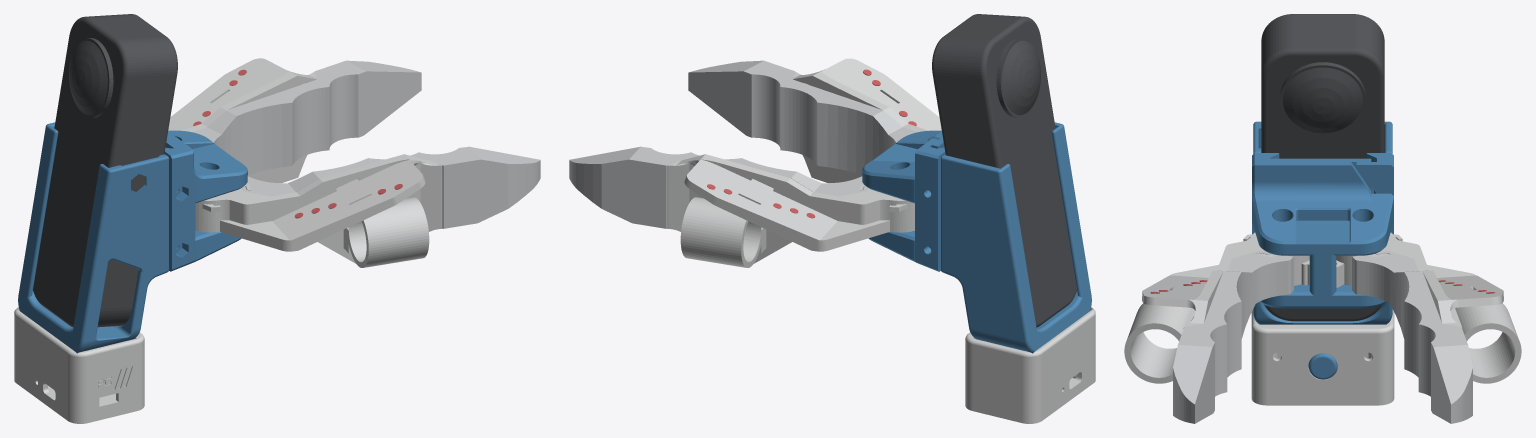
File: pg_chopstick_data.glb
The picture shows the model from 3 angles, left to right: view 1: azimuth 30°, elevation 25°; view 2: azimuth 150°, elevation 25°; view 3: azimuth 270°, elevation 25°; orthographic projection. The views are drawn at different scales.
Parts seen in each view (by area): view 1: insta360_x5_envelope, jaw_right_dc, x5_lite_frame, tip_tpu_left, pg_pod, tip_tpu_right, chopstick_base_dc, jaw_left_dc, pg_pod_lid; view 2: insta360_x5_envelope, jaw_left_dc, x5_lite_frame, tip_tpu_right, pg_pod, tip_tpu_left, jaw_right_dc, chopstick_base_dc, chopstick_clip_dc, pg_pod_lid; view 3: insta360_x5_envelope, chopstick_base_dc, pg_pod, tip_tpu_left, tip_tpu_right, jaw_left_dc, jaw_right_dc, x5_lite_frame, chopstick_clip_dc, pg_pod_lid, pg_pod_button.
Boxes of the visible parts, left/top/right/bottom form: insta360_x5_envelope: left=33, top=14, right=177, bottom=327; jaw_right_dc: left=195, top=154, right=442, bottom=267; x5_lite_frame: left=18, top=122, right=168, bottom=353; tip_tpu_left: left=193, top=60, right=421, bottom=174; pg_pod: left=14, top=307, right=144, bottom=419; tip_tpu_right: left=241, top=146, right=540, bottom=228; chopstick_base_dc: left=164, top=130, right=247, bottom=271; jaw_left_dc: left=168, top=58, right=317, bottom=182; pg_pod_lid: left=14, top=377, right=144, bottom=423; insta360_x5_envelope: left=932, top=14, right=1076, bottom=327; jaw_left_dc: left=667, top=154, right=914, bottom=267; x5_lite_frame: left=941, top=122, right=1091, bottom=353; tip_tpu_right: left=688, top=60, right=916, bottom=174; pg_pod: left=965, top=307, right=1095, bottom=419; tip_tpu_left: left=569, top=146, right=868, bottom=228; jaw_right_dc: left=792, top=58, right=941, bottom=182; chopstick_base_dc: left=862, top=130, right=944, bottom=261; chopstick_clip_dc: left=915, top=138, right=945, bottom=271; pg_pod_lid: left=965, top=377, right=1095, bottom=423; insta360_x5_envelope: left=1261, top=14, right=1384, bottom=321; chopstick_base_dc: left=1252, top=153, right=1393, bottom=308; pg_pod: left=1251, top=309, right=1394, bottom=400; tip_tpu_left: left=1352, top=250, right=1472, bottom=423; tip_tpu_right: left=1173, top=250, right=1293, bottom=423; jaw_left_dc: left=1336, top=232, right=1521, bottom=383; jaw_right_dc: left=1124, top=232, right=1309, bottom=383; x5_lite_frame: left=1253, top=121, right=1392, bottom=324; chopstick_clip_dc: left=1356, top=153, right=1393, bottom=234; pg_pod_lid: left=1251, top=395, right=1394, bottom=405; pg_pod_button: left=1308, top=353, right=1337, bottom=379.
Size of the model in its own units: 0.2033 by 0.1583 by 0.1482.
